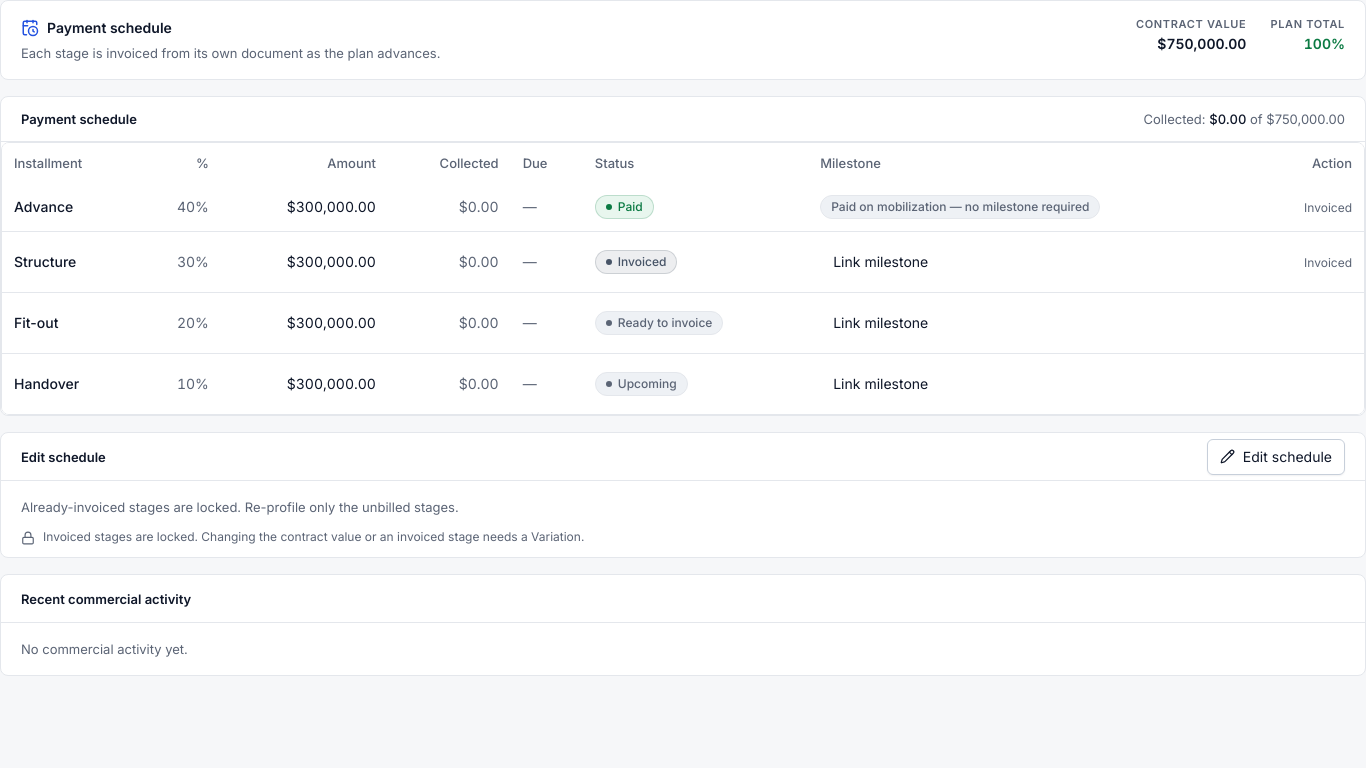
Test case: PaymentScheduleTab — invoiced-billed header (S-PS-3) › states how much is already billed and what remains editable above the locked rows
Click the button "Edit schedule" at (1276, 456), box [1207,438,1345,474]
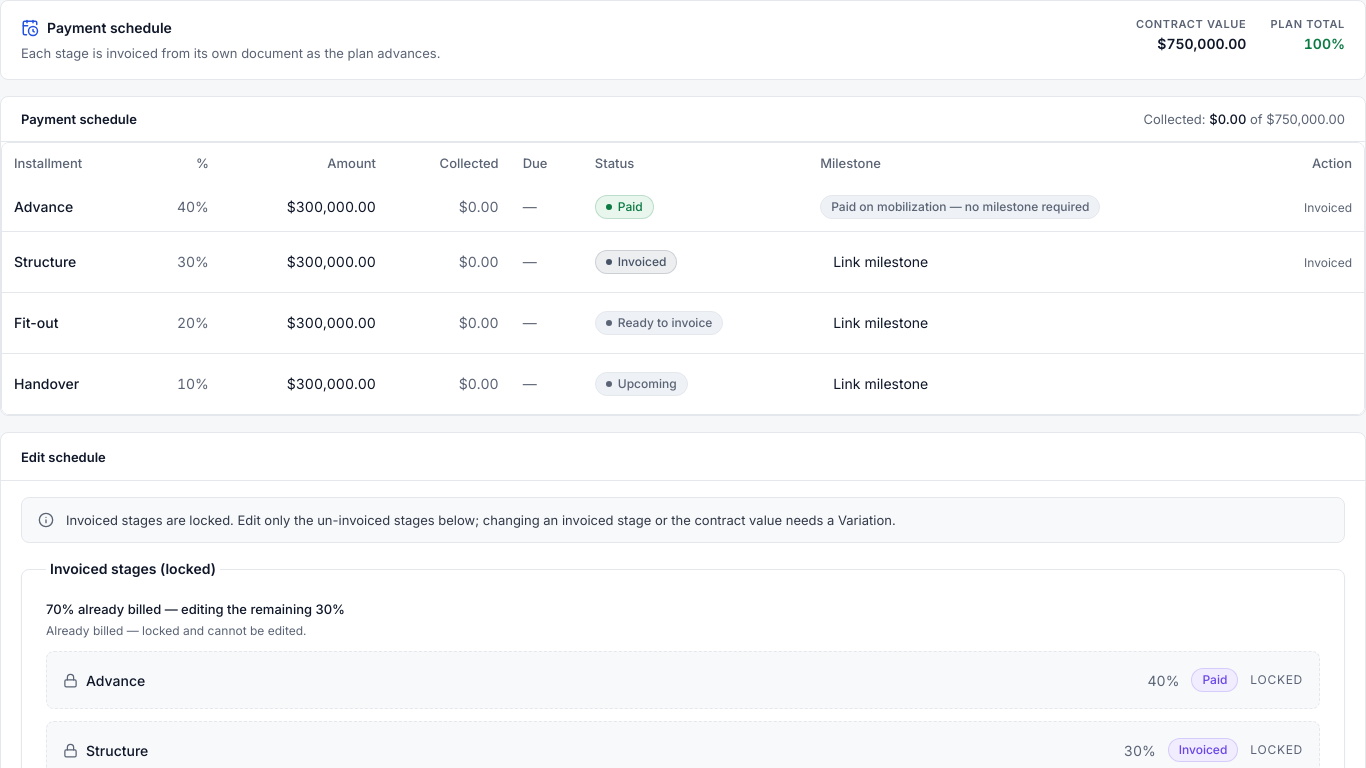
Expected: the text "70% already billed — editing the remaining 30%" is shown, [46,601,345,617]
